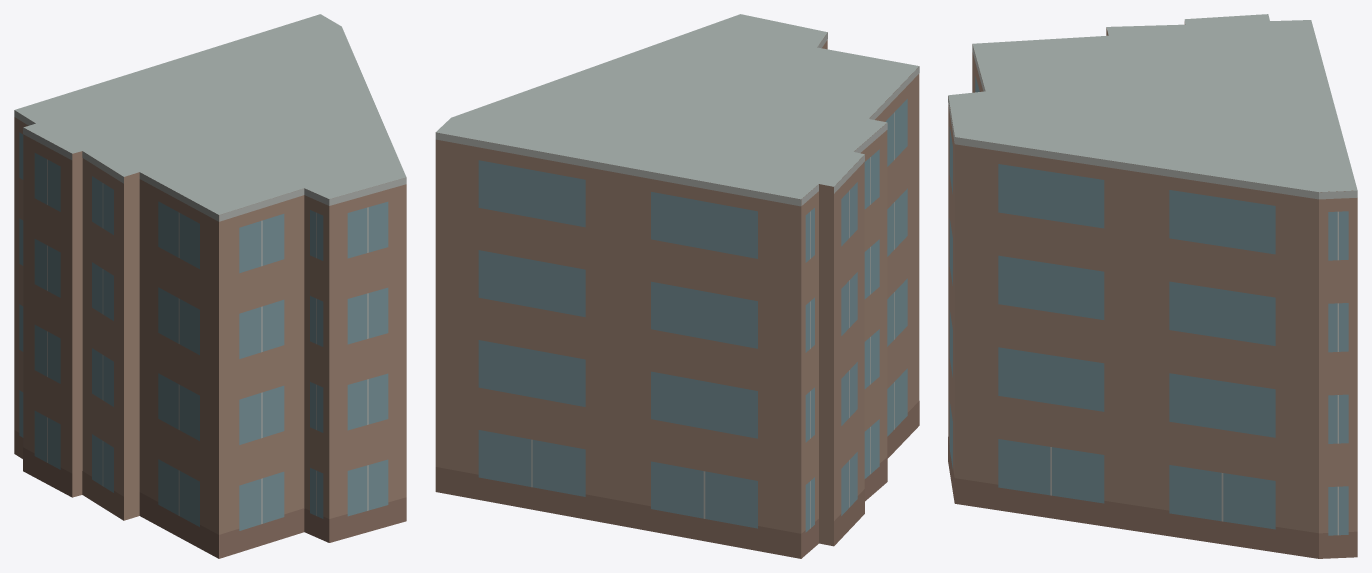
File: survey-upis-32609736.glb
3 views of the same model, side by side, from view 1: azimuth 30°, elevation 25°; view 2: azimuth 150°, elevation 25°; view 3: azimuth 270°, elevation 25° (orthographic). The views are drawn at different scales.
Visible parts, largest first — view 1: survey-upis-32609736.tmp; view 2: survey-upis-32609736.tmp; view 3: survey-upis-32609736.tmp.
Part boxes in pixels (<box>): survey-upis-32609736.tmp: <box>14,14,406,558</box>; survey-upis-32609736.tmp: <box>435,14,919,558</box>; survey-upis-32609736.tmp: <box>948,14,1357,558</box>.
Size of the model in its own units: 12.83 by 12.3 by 12.46.
